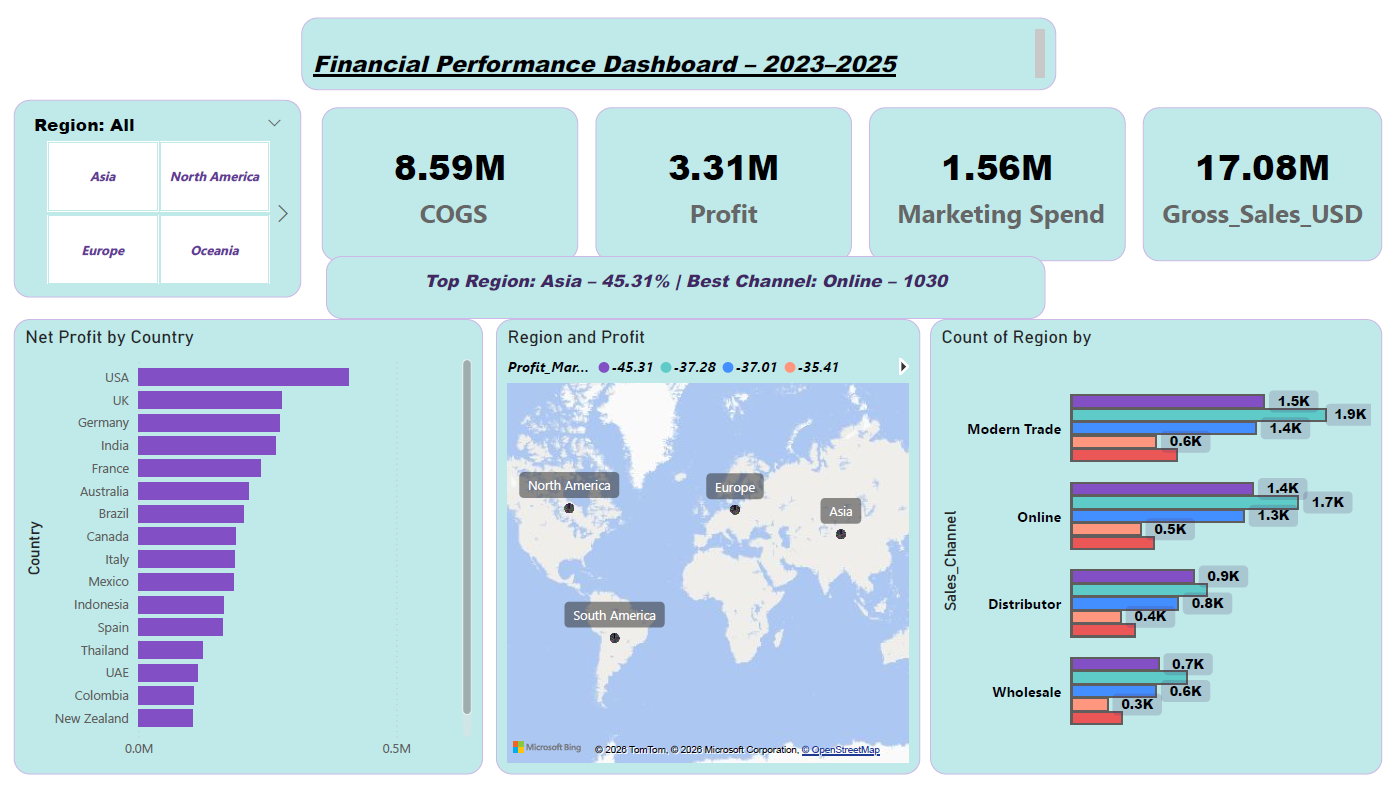

What the dashboard file says about the page in this screenshot:
{"tool":"powerbi","page":{"name":"Dashboard","canvas":[1280,720],"ordinal":0},"visuals":[{"type":"card","fields":{"Values":["Sum(profitability_2023_2025.Gross_Sales_USD)"]},"box":[1056,96,224,144],"z":0},{"type":"card","fields":{"Values":["Sum(profitability_2023_2025.Marketing_Spend_USD)"]},"box":[800,96,240,144],"z":1000},{"type":"card","fields":{"Values":["Sum(profitability_2023_2025.Profit_USD)"]},"box":[544,96,240,144],"z":2000},{"type":"card","fields":{"Values":["Sum(profitability_2023_2025.COGS_USD)"]},"box":[288,96,240,144],"z":3000},{"type":"slicer","fields":{"Values":["profitability_2023_2025.Region"]},"box":[0,89.3,269,184.6],"z":4000},{"type":"map","title":"Region and Profit","fields":{"Category":["profitability_2023_2025.Region"],"Series":["profitability_2023_2025.Profit_Margin_Pct"]},"box":[451.2,294.4,396.9,425.9],"z":5000},{"type":"clusteredBarChart","title":"Net Profit by Country","fields":{"Category":["profitability_2023_2025.Country"],"Y":["Sum(profitability_2023_2025.Profit_USD)"]},"box":[0,294.4,439.1,425.9],"z":6000},{"type":"clusteredBarChart","title":"Count of Region by ","fields":{"Category":["profitability_2023_2025.Sales_Channel"],"Series":["profitability_2023_2025.Region"],"Y":["CountNonNull(profitability_2023_2025.Region)"]},"box":[856.6,294.4,423.5,425.9],"z":7000},{"type":"textbox","box":[269,12.1,705.8,67.6],"z":8000},{"type":"textbox","box":[292,235.3,673.2,59.1],"z":9000}]}

Visuals, with their boxes in screenshot pixels (x1, y1, x2, y2), scaled from the page's 1280x720 canvas onto the 1400x791 screenshot:
card - Sum(profitability_2023_2025.Gross_Sales_USD): [1155, 105, 1399, 264]
card - Sum(profitability_2023_2025.Marketing_Spend_USD): [875, 105, 1138, 264]
card - Sum(profitability_2023_2025.Profit_USD): [595, 105, 858, 264]
card - Sum(profitability_2023_2025.COGS_USD): [315, 105, 578, 264]
slicer - profitability_2023_2025.Region: [0, 98, 294, 301]
"Region and Profit" map: [494, 323, 928, 790]
"Net Profit by Country" clusteredBarChart: [0, 323, 480, 790]
"Count of Region by " clusteredBarChart: [937, 323, 1399, 790]
textbox: [294, 13, 1066, 88]
textbox: [319, 259, 1056, 323]
